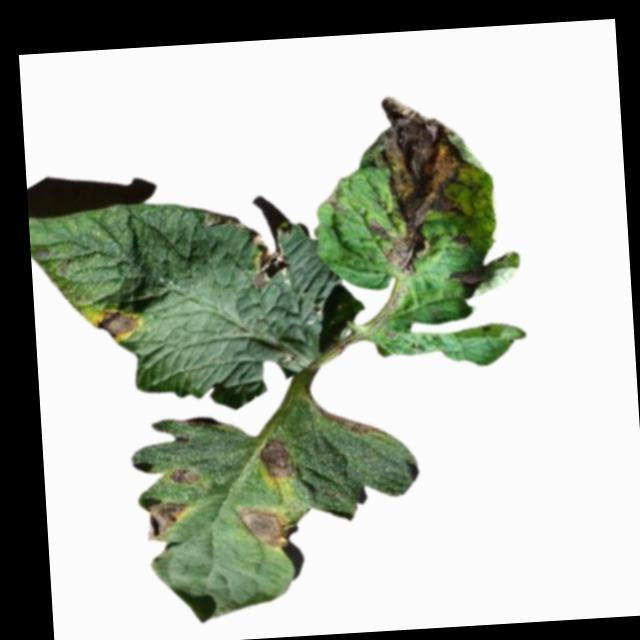Early_blight: (368, 87, 481, 274), (235, 502, 295, 552), (135, 494, 193, 543), (249, 228, 288, 289), (318, 403, 382, 440), (88, 306, 142, 343), (258, 438, 296, 481), (448, 266, 488, 288), (167, 464, 201, 487), (319, 193, 344, 216)
